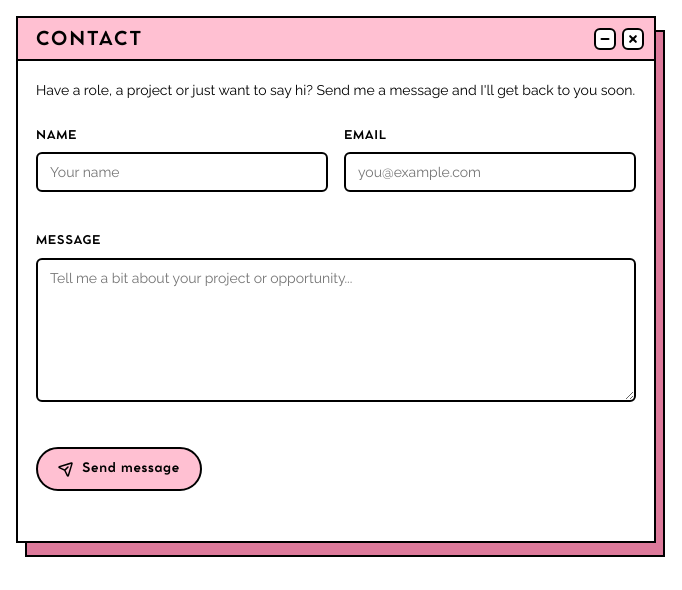
Test: Contact form › shows validation errors when submitted empty
What coordinates should you click on to do the following:
click the button "Send message"
I would click on:
 (119, 469)
Its box is 36,447 -> 202,491.
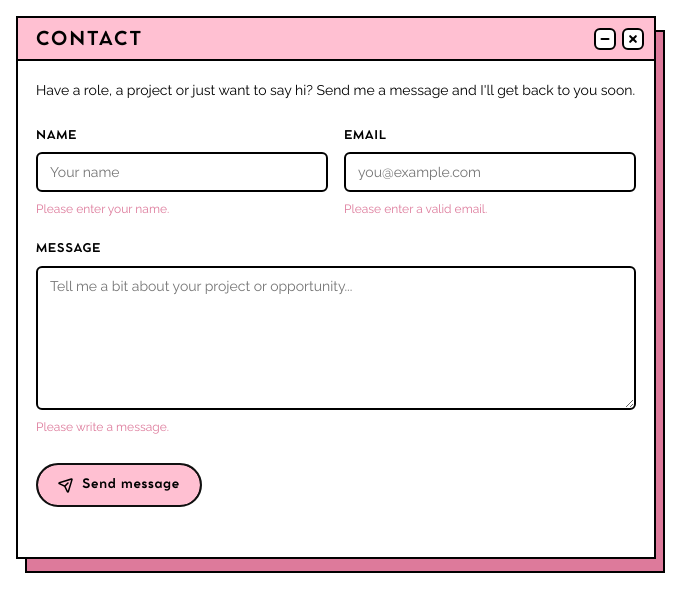
Expected: the text "Please enter your name." is shown, 36,202 -> 169,216
Expected: the text "Please enter a valid email." is shown, 344,202 -> 487,216
Expected: the text "Please write a message." is shown, 36,420 -> 169,434
